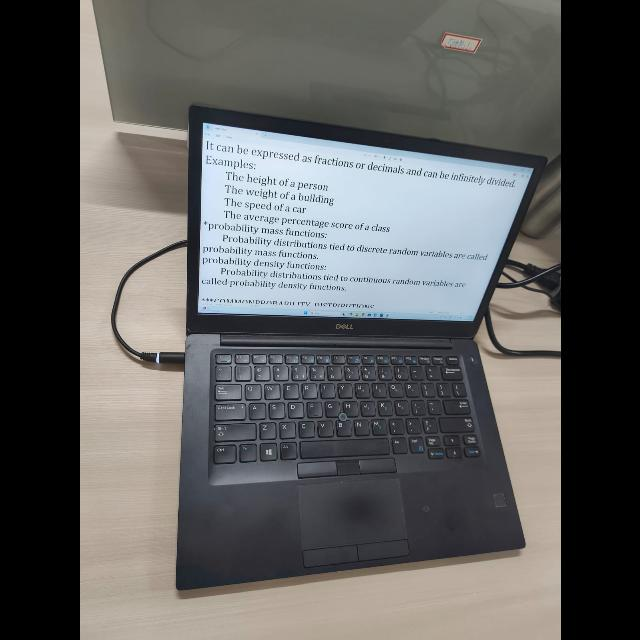laptop: (168, 90, 540, 612)
